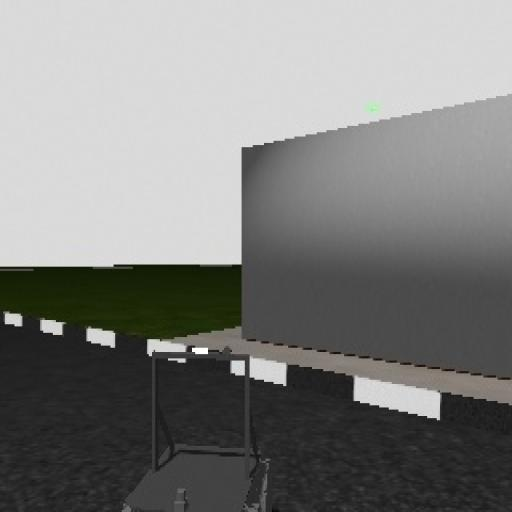huskya200: (122, 342, 292, 512)
